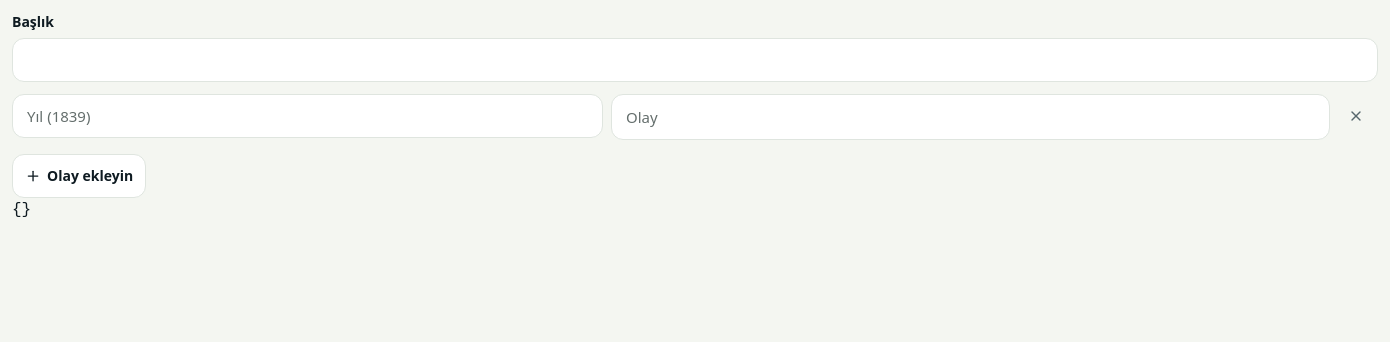
Test: satır formları gerçek yazımla › çizelge: sözcük aralarındaki ve sondaki boşluk korunur, Enter ilerler, yeni satır açar
Click the field named "Yıl 1" at (308, 116), box [12,94,603,138]
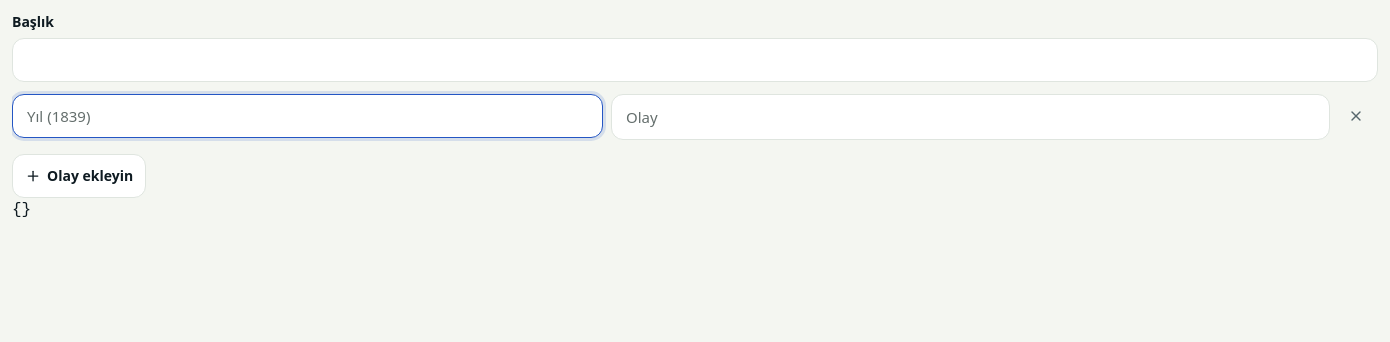
Type keys "1839{Enter}Tanzimat Fermanı ilan edildi{Enter}1856{Enter}Islahat Fermanı"
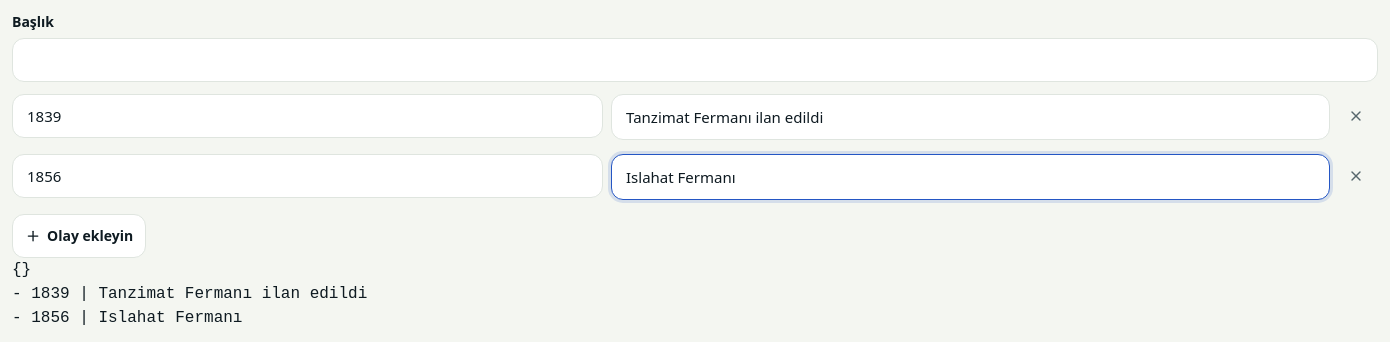
Now the number of fields named "Yıl 1" is 2, box [12,94,603,138]; [12,154,603,198]
